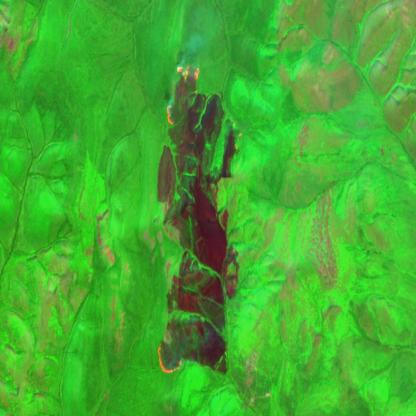fire: (158, 59, 202, 127), (156, 340, 184, 375), (230, 119, 246, 157)
